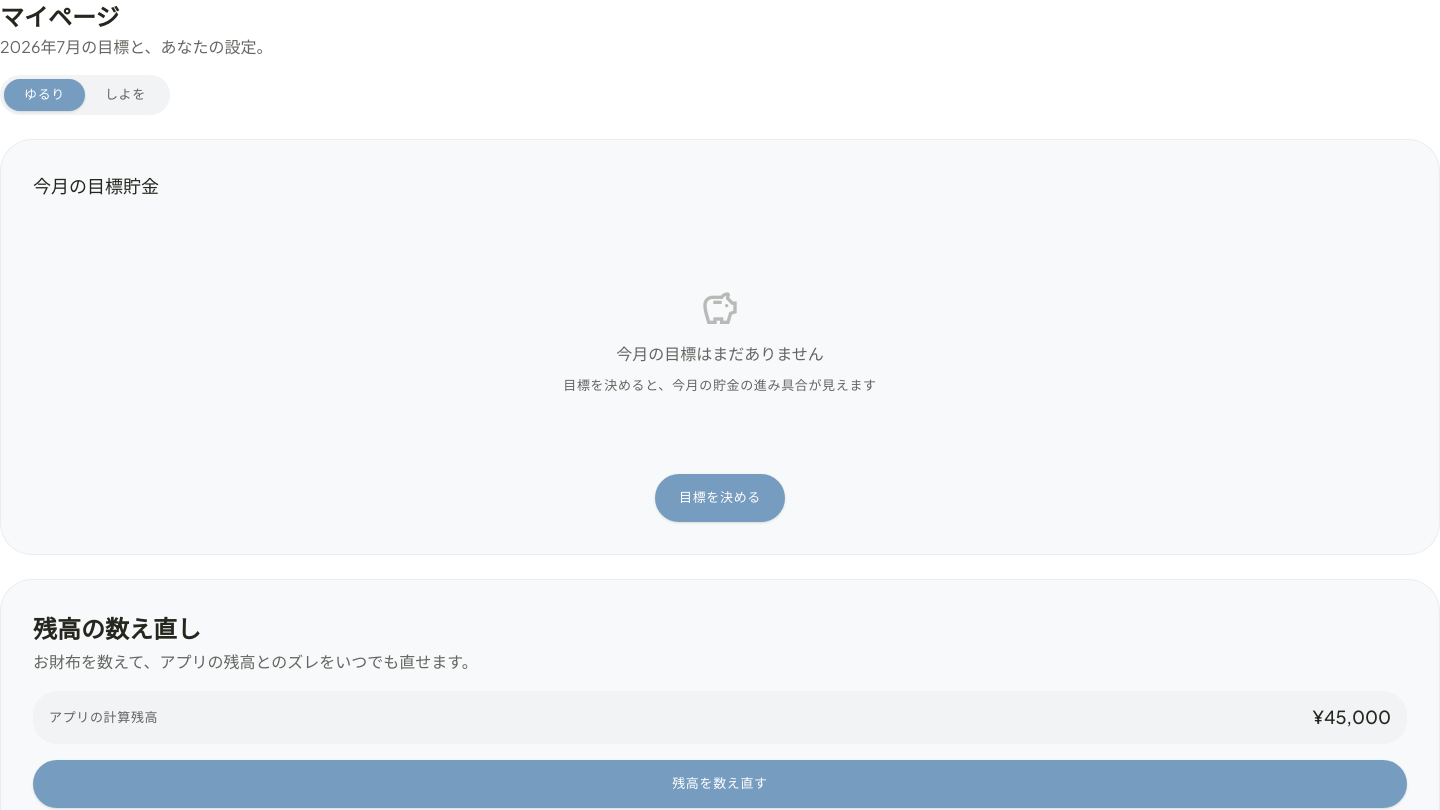
MyPage 統合（目標貯金 + プロフィール） › 自分タブでは数え直しカードを出し、相手タブでは出さない
Check: the button "残高を数え直す" is shown, box [33, 760, 1407, 808]
# メンバータブは profiles のロード後に出る
Click the radio button labelled "しよを" at (126, 95), box [85, 79, 166, 111]
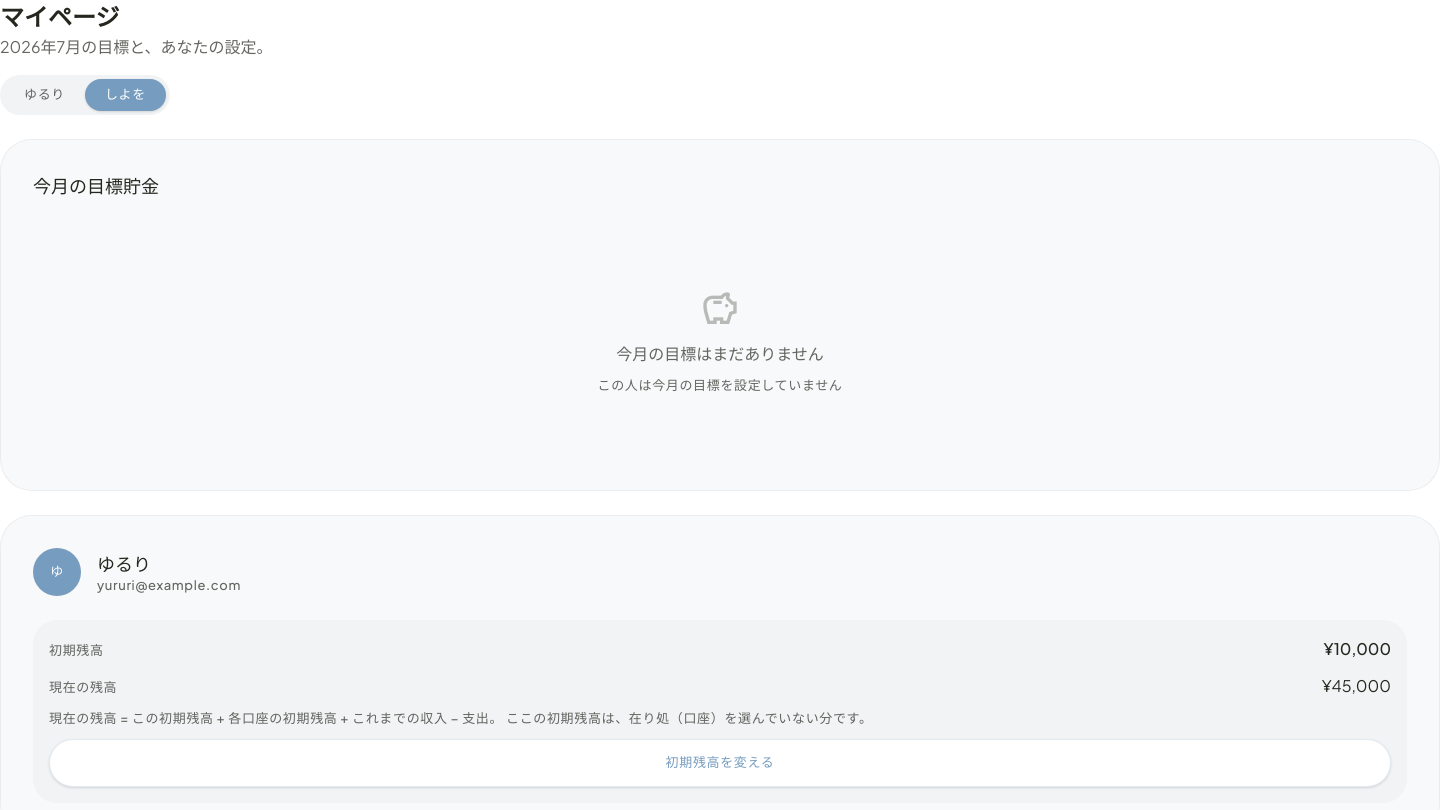
Check: the button "残高を数え直す" is gone
